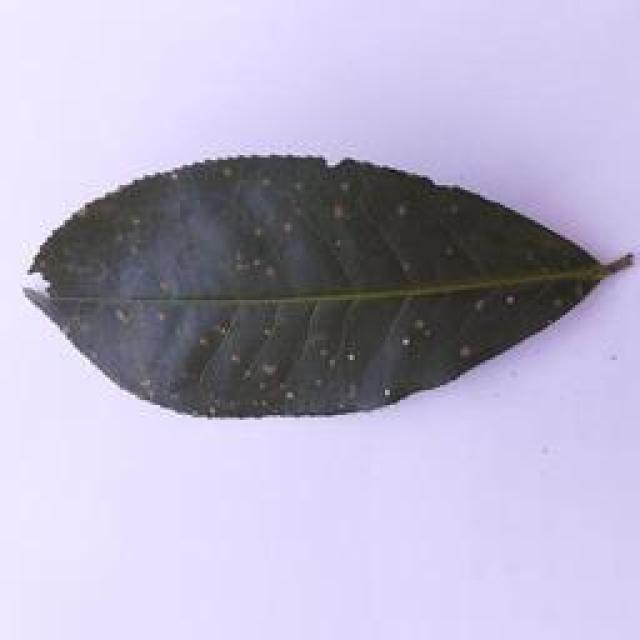Algal Leaf Spot: (6, 148, 614, 437)
